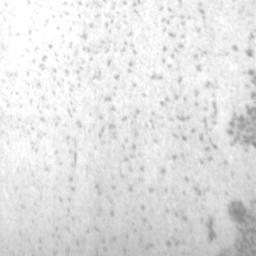Pitted surface: (2, 0, 256, 245), (226, 192, 256, 253), (202, 217, 226, 256), (183, 177, 201, 196), (166, 209, 187, 221)
